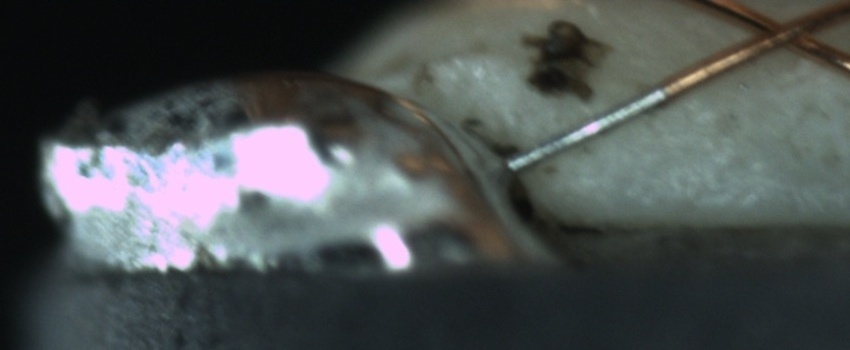CL: (734, 4, 831, 60)
TS: (504, 86, 668, 174)
